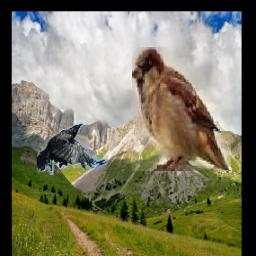Crow: (37, 122, 109, 175)
Sparrow: (132, 48, 231, 172)
